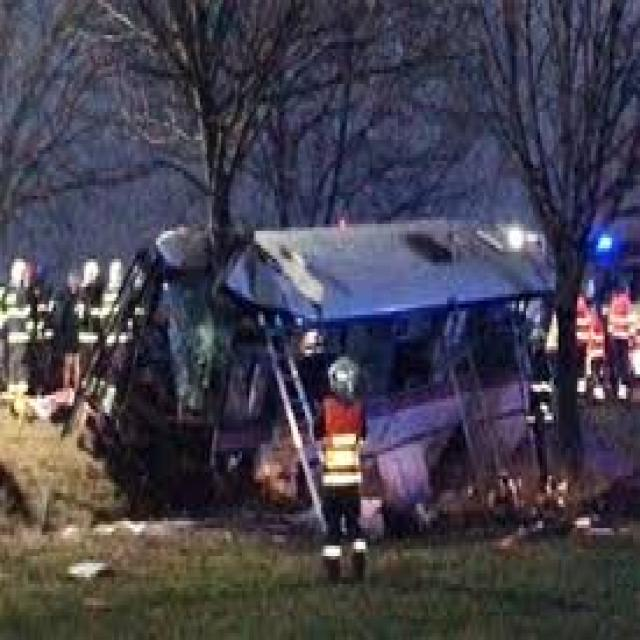accident: (51, 200, 570, 534)
